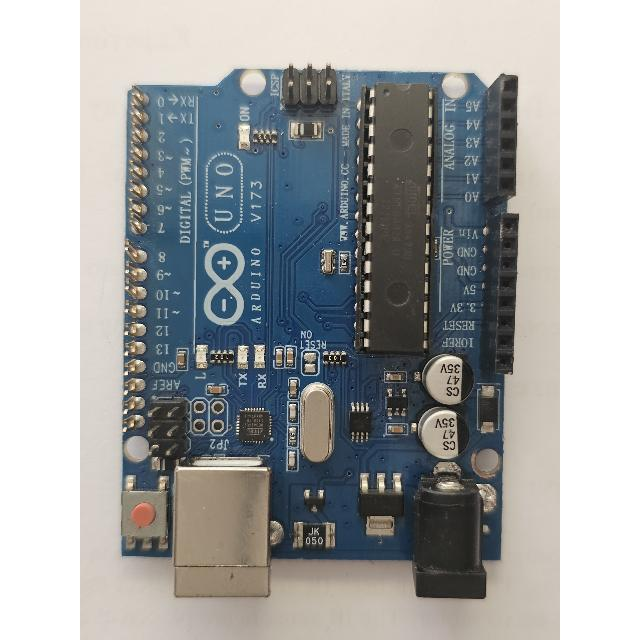missing_digital_pins: (116, 76, 155, 440)
